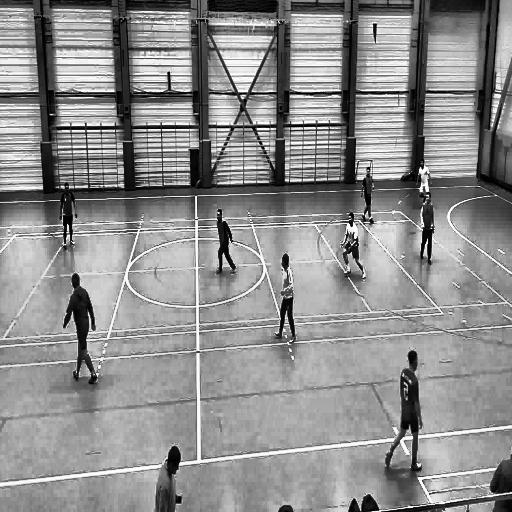player: (385, 348, 423, 474), (62, 273, 98, 385), (272, 252, 298, 349), (339, 213, 367, 282), (214, 208, 236, 278), (59, 178, 78, 252), (418, 192, 435, 268), (361, 164, 375, 225), (416, 156, 432, 202)
